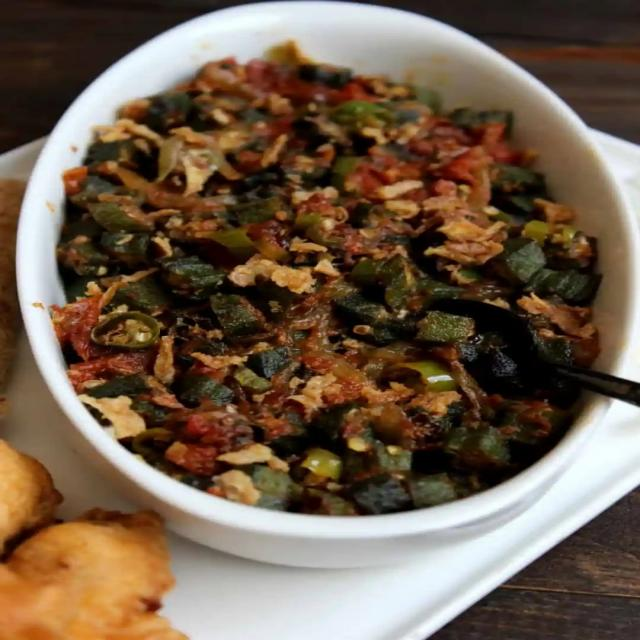BhindiMasala: (51, 40, 600, 517)
